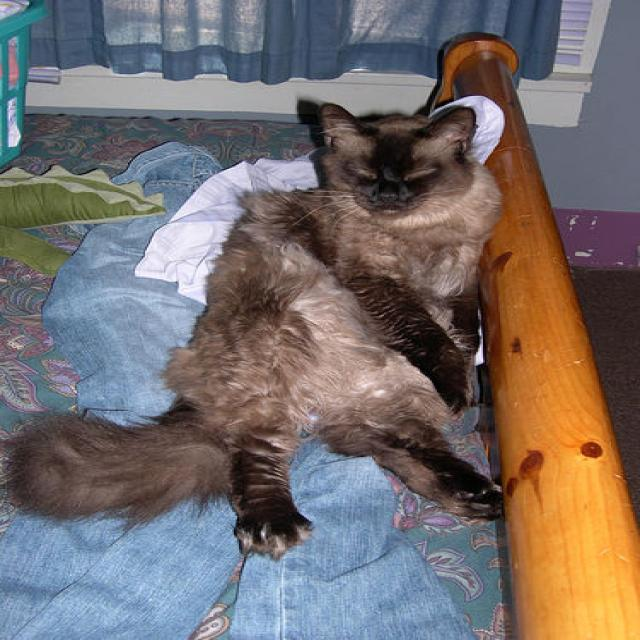cat: (5, 97, 500, 559)
